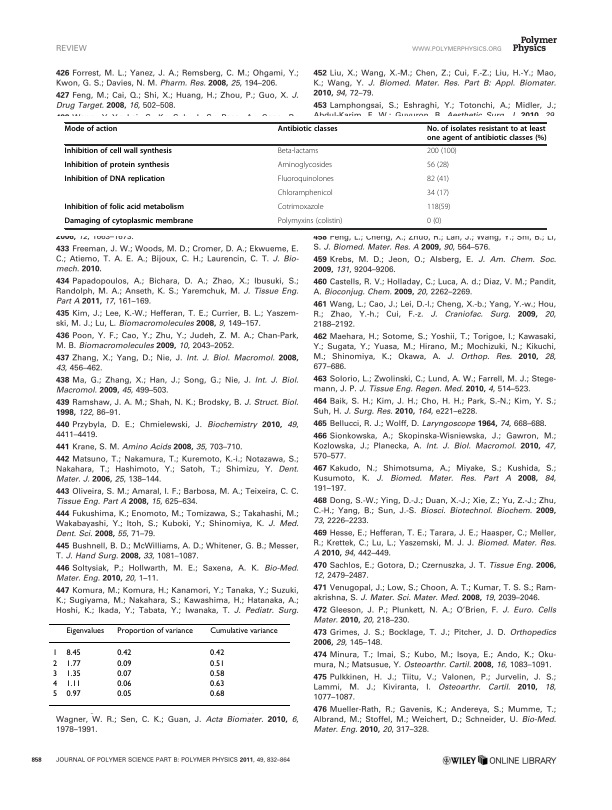borderless: (63, 121, 546, 228), (48, 622, 290, 706)
cell: (426, 125, 547, 143), (64, 217, 194, 227), (64, 203, 185, 213), (64, 147, 173, 157), (64, 161, 170, 171), (64, 175, 166, 185), (116, 626, 193, 636), (209, 626, 278, 636), (277, 217, 343, 227), (277, 175, 335, 185), (277, 161, 333, 171), (277, 189, 333, 199), (277, 125, 339, 134), (64, 125, 118, 134), (277, 203, 324, 213), (277, 147, 319, 157), (65, 626, 105, 636), (426, 147, 457, 157), (426, 203, 451, 213), (426, 161, 450, 171), (426, 175, 450, 185), (426, 189, 450, 199), (65, 659, 81, 669), (116, 659, 132, 669), (209, 659, 225, 669), (65, 669, 81, 679), (116, 669, 132, 679), (209, 669, 225, 679), (65, 679, 81, 689), (116, 679, 132, 689), (209, 679, 225, 689), (426, 217, 442, 227), (65, 649, 81, 658), (116, 649, 132, 658), (209, 649, 225, 658), (65, 690, 81, 699), (116, 690, 132, 699), (209, 690, 225, 699), (51, 659, 58, 669), (51, 669, 58, 679), (51, 679, 58, 689), (51, 649, 58, 658), (51, 690, 58, 699)
